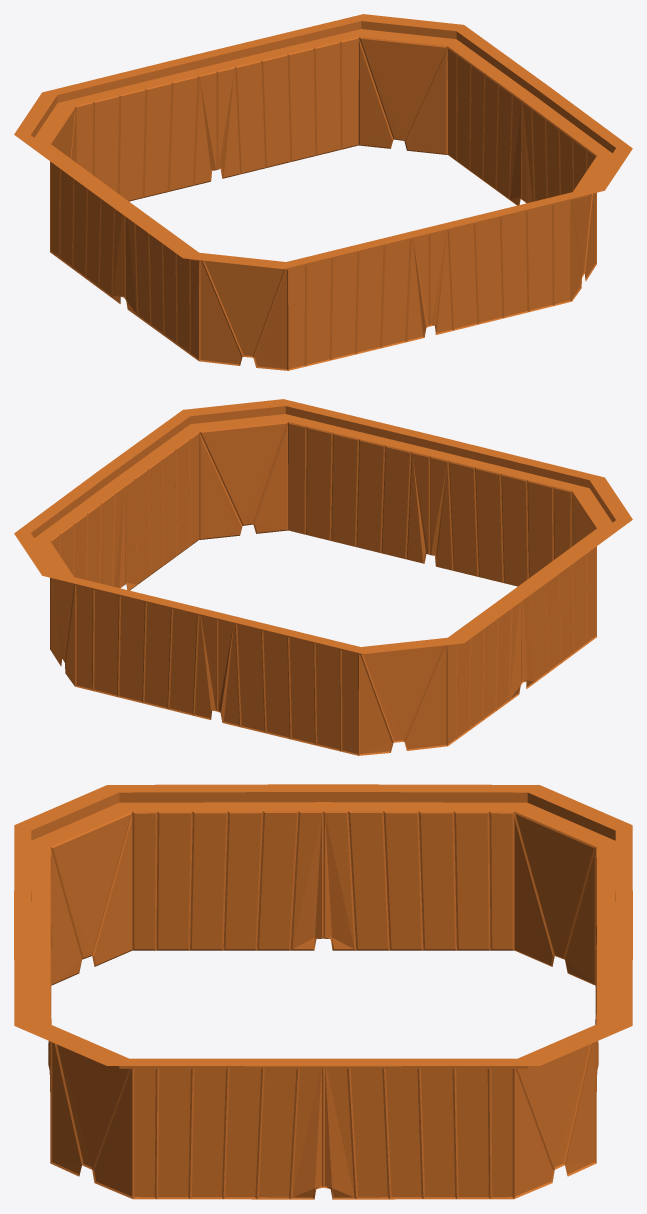
File: Egyptian_wall 1.FBX
The picture shows the model from 3 angles, top to bottom: view 1: azimuth 30°, elevation 25°; view 2: azimuth 150°, elevation 25°; view 3: azimuth 270°, elevation 25°; orthographic projection. The views are drawn at different scales.
Parts seen in each view (by area): view 1: Egyptian_wall1; view 2: Egyptian_wall1; view 3: Egyptian_wall1.
Boxes of the visible parts, bbox=[...] form: Egyptian_wall1: bbox=[14, 14, 632, 370]; Egyptian_wall1: bbox=[14, 399, 632, 755]; Egyptian_wall1: bbox=[14, 784, 632, 1199].
Size of the model in its own units: 13775 by 3416 by 12786.
